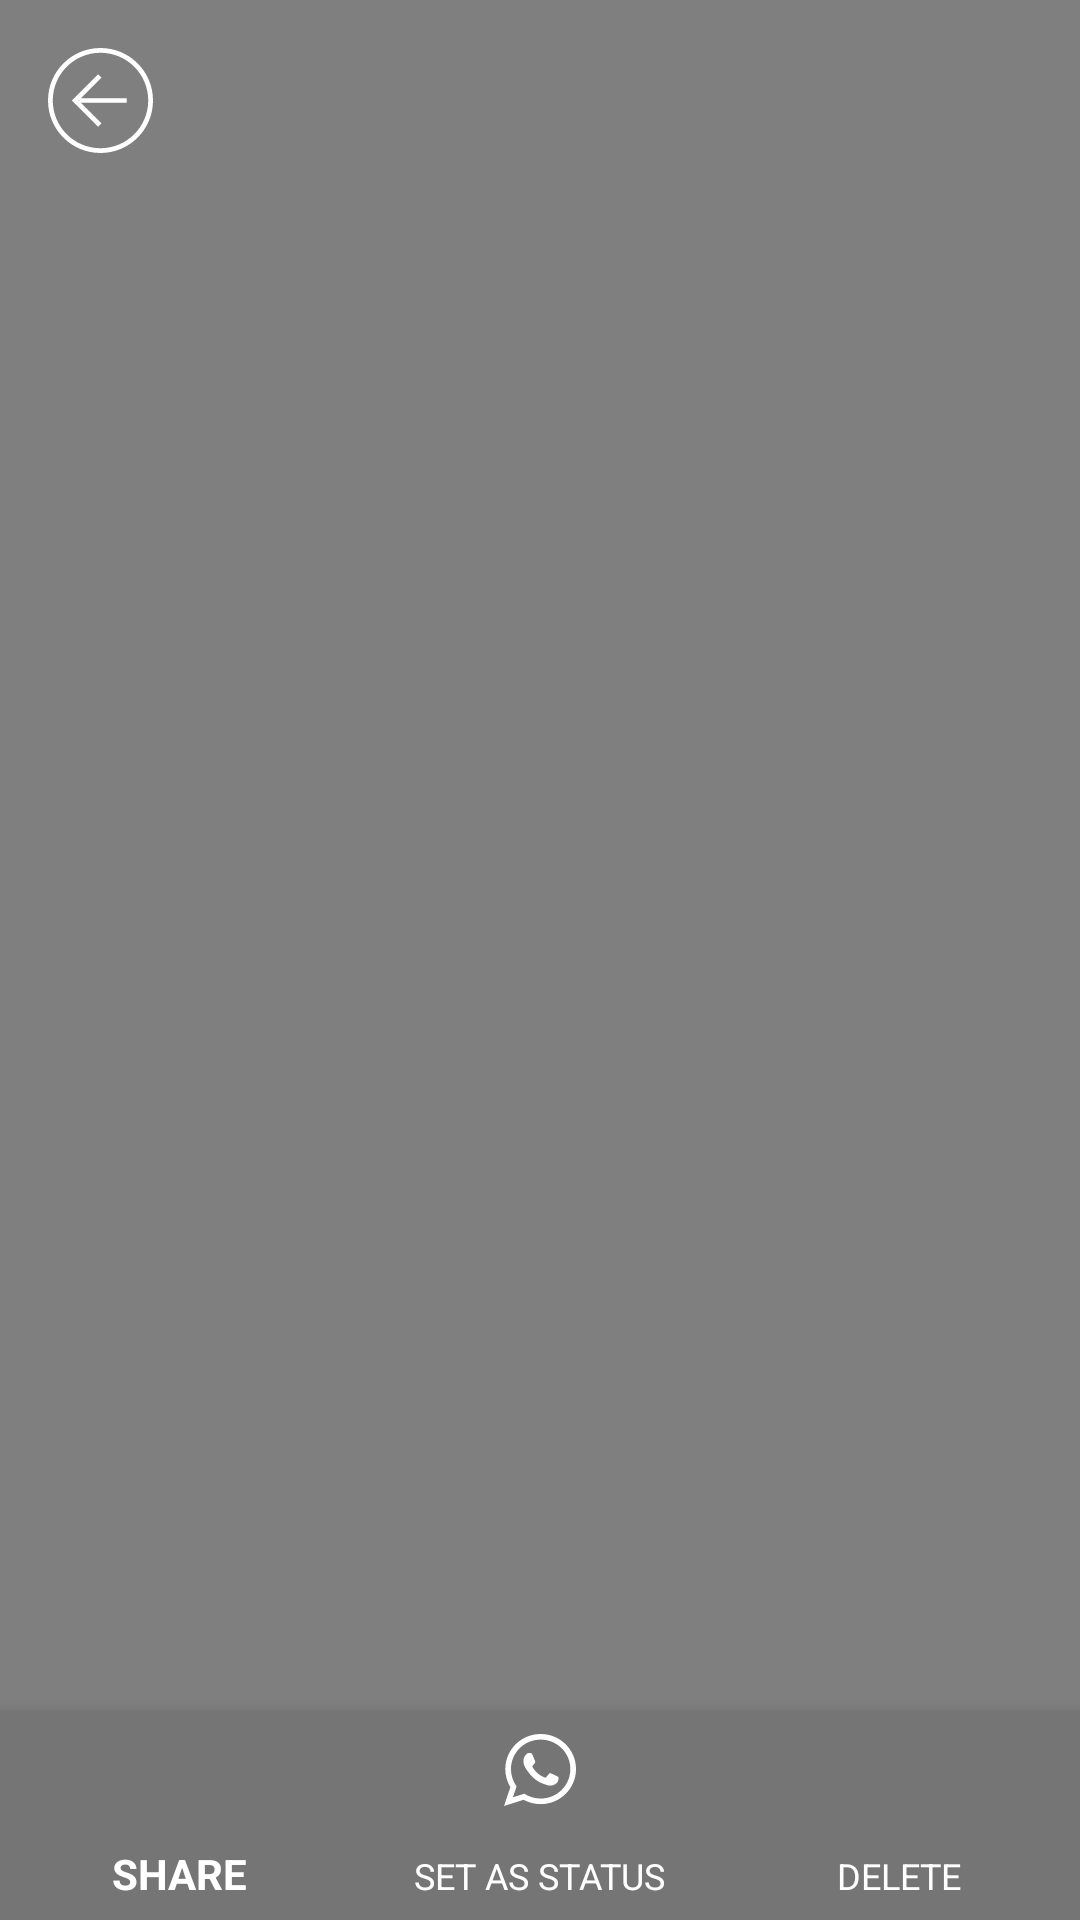

Screen size 1080×1920. Icon name, then its box in pixels as (x1, y1, x2, y2):
back circular left arrow: (48, 48, 153, 153)
